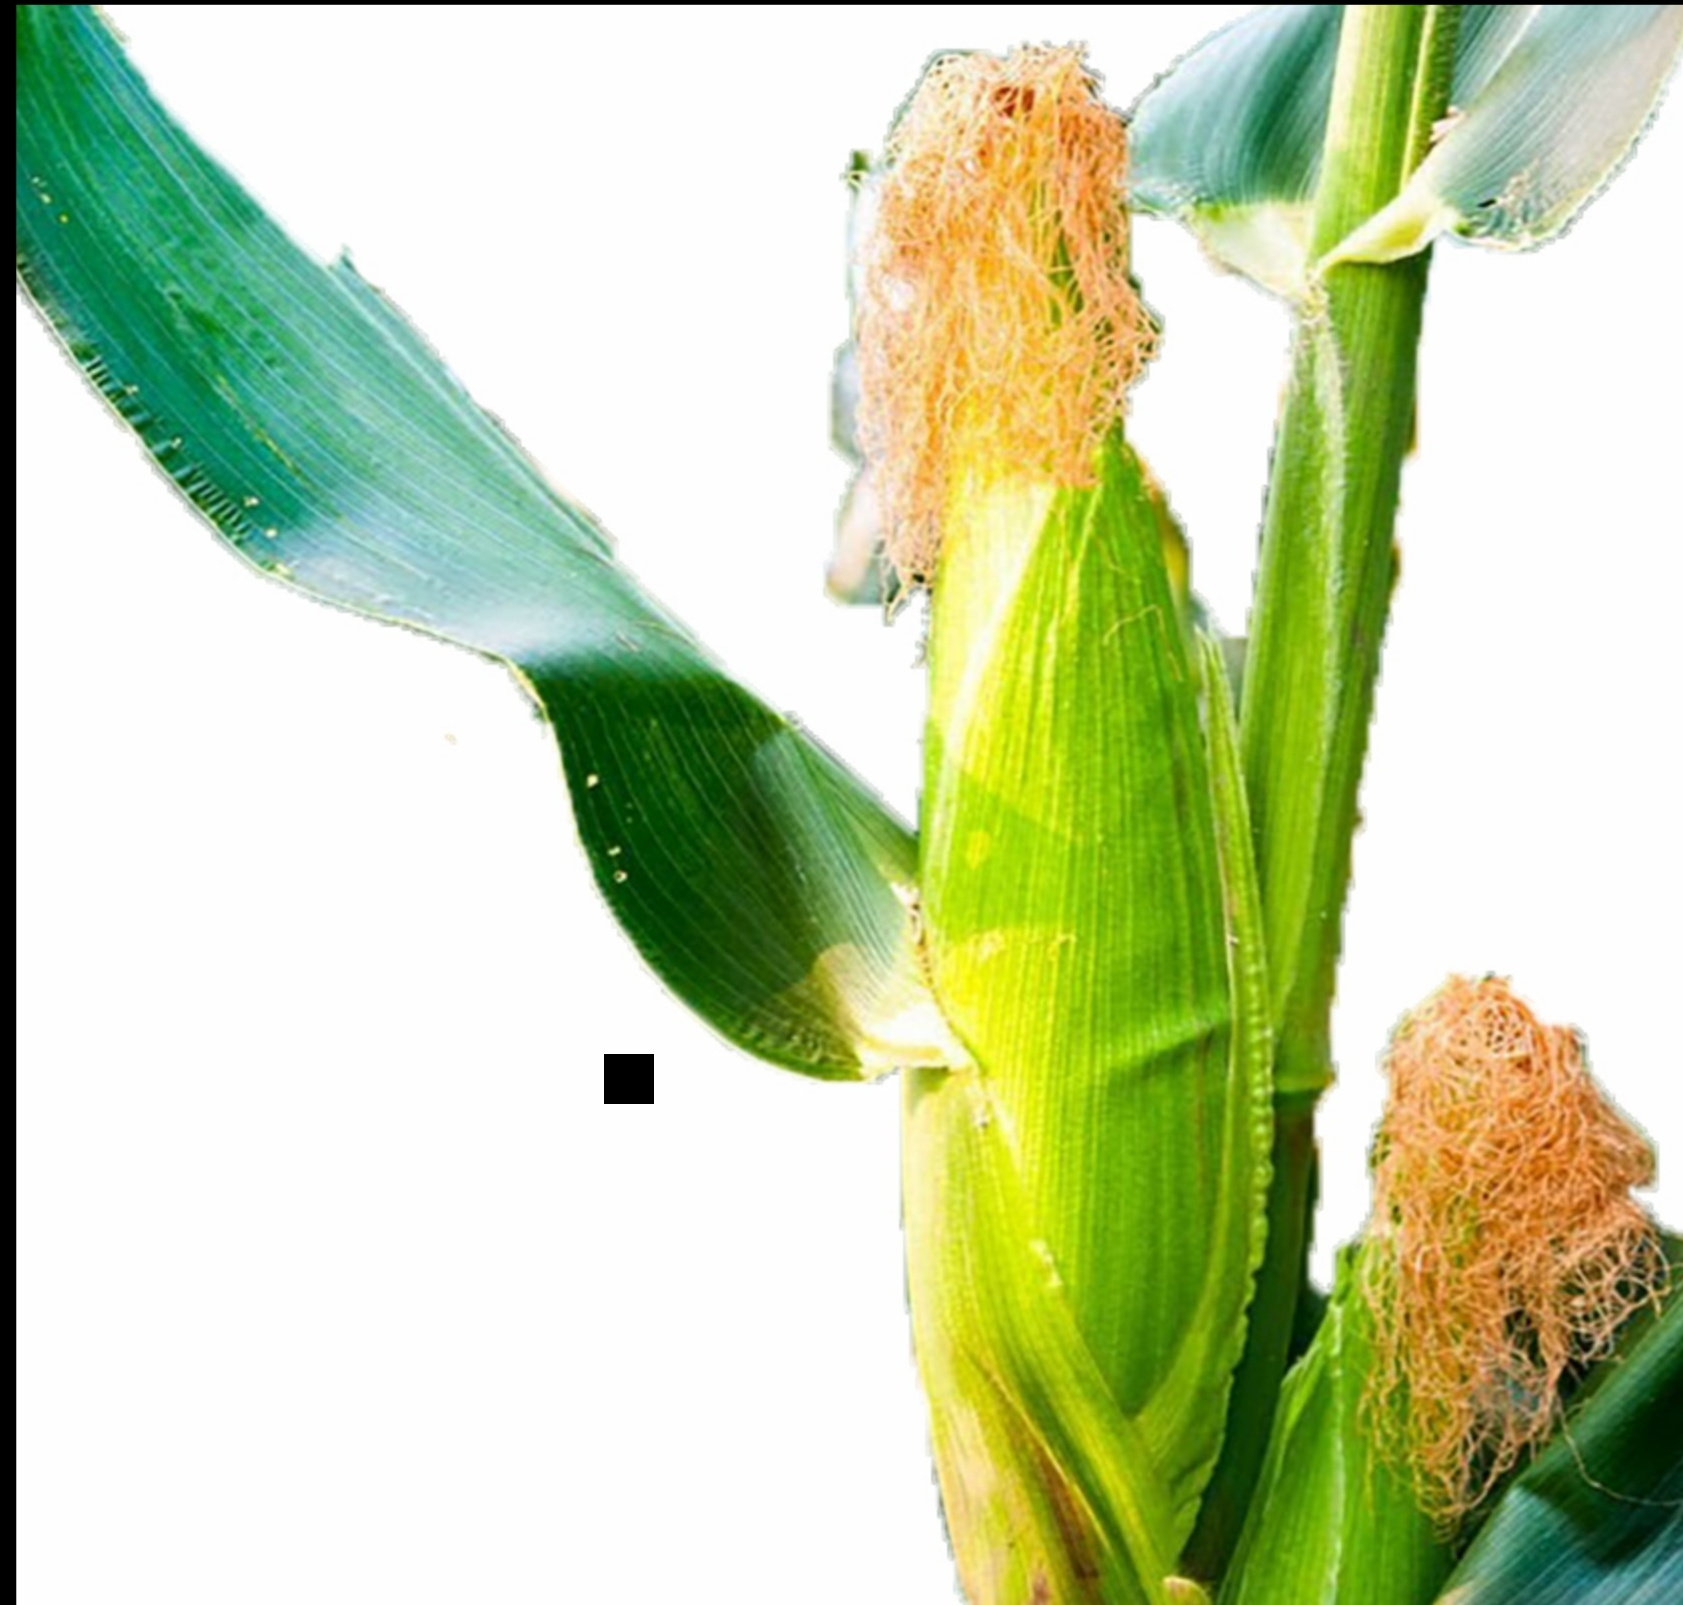corn_plant: (721, 8, 1261, 1585)
